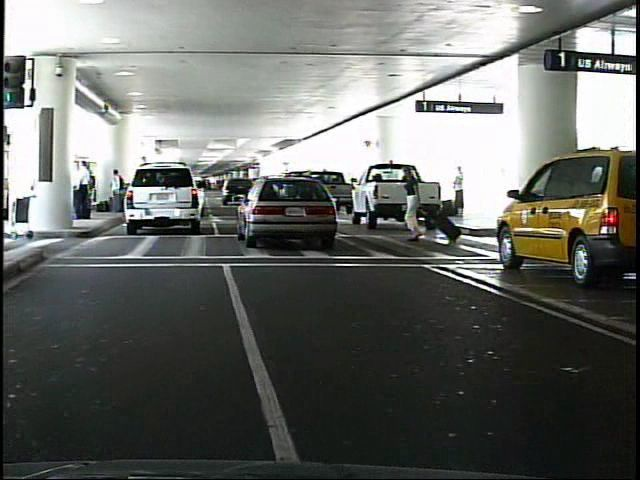person: (404, 163, 429, 245), (80, 159, 94, 219), (115, 166, 130, 219), (455, 162, 467, 212)
